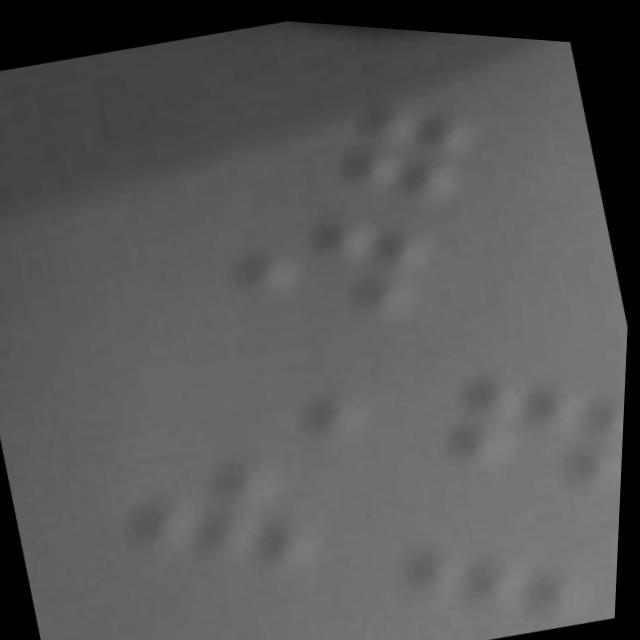braiile: (233, 29, 494, 238), (117, 425, 343, 611), (220, 180, 452, 351), (435, 329, 629, 518), (390, 469, 598, 640)
